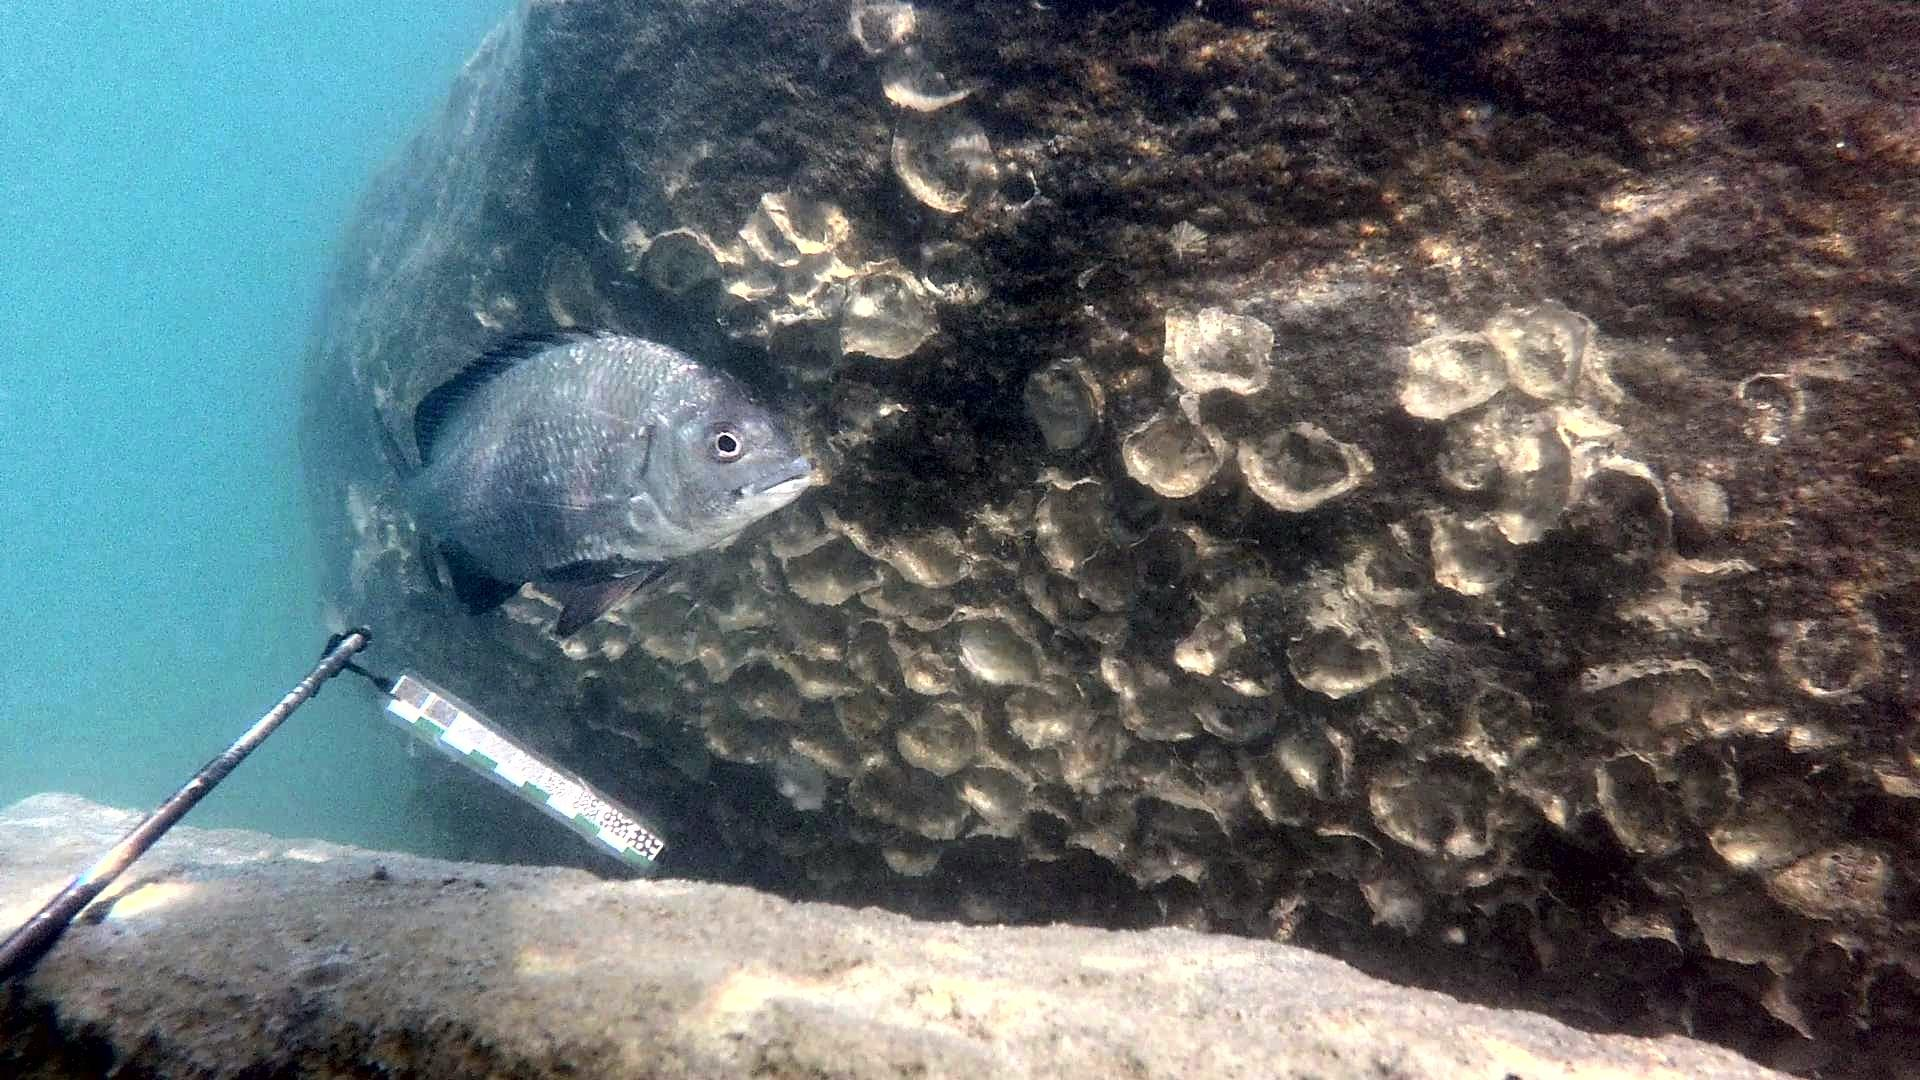acanthopagrus palmaris: (368, 322, 827, 639)
